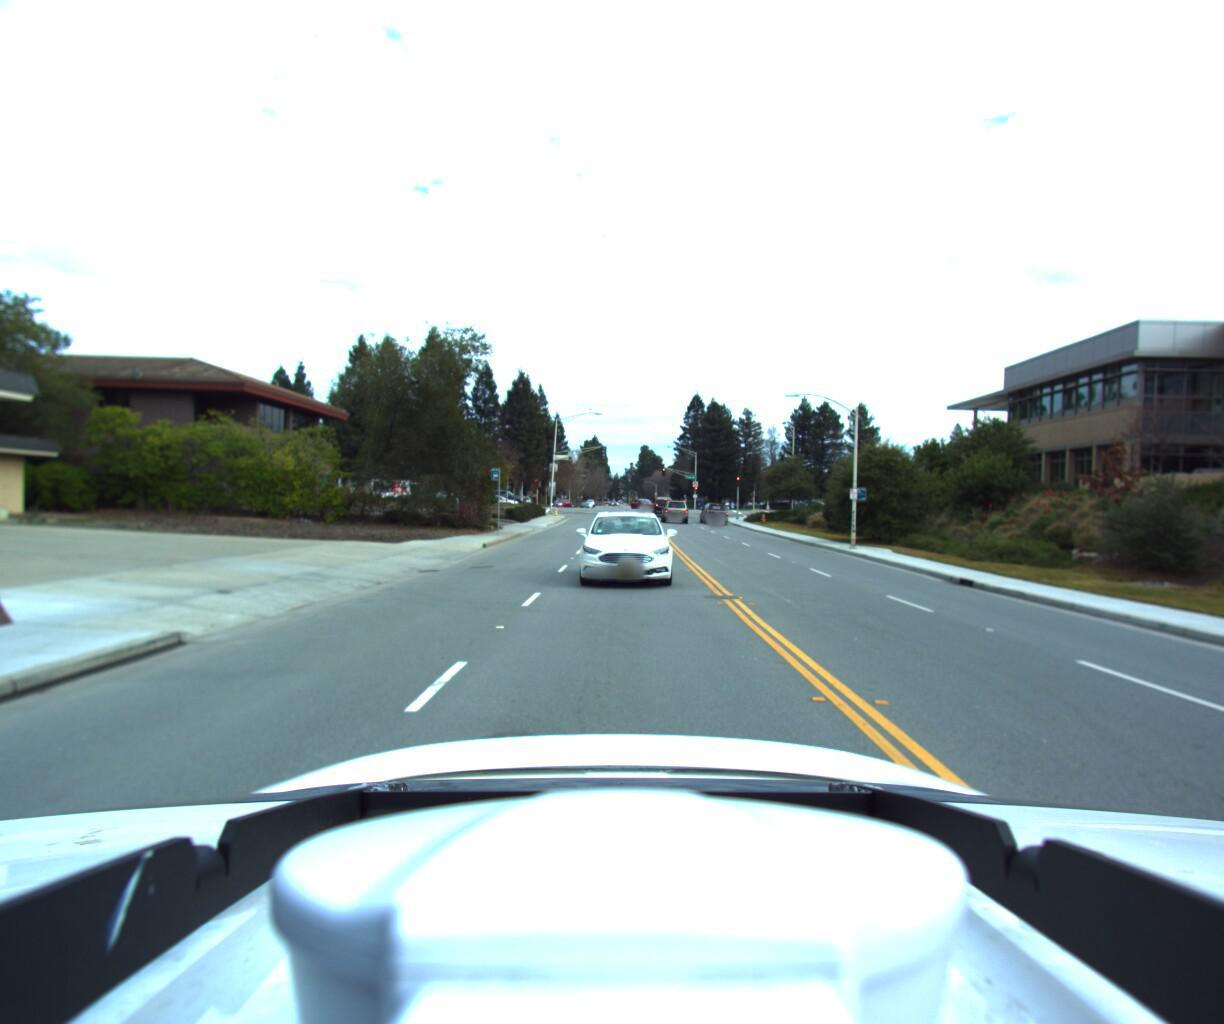car: (571, 507, 673, 590), (660, 497, 690, 522), (698, 501, 727, 523), (648, 496, 672, 515)
